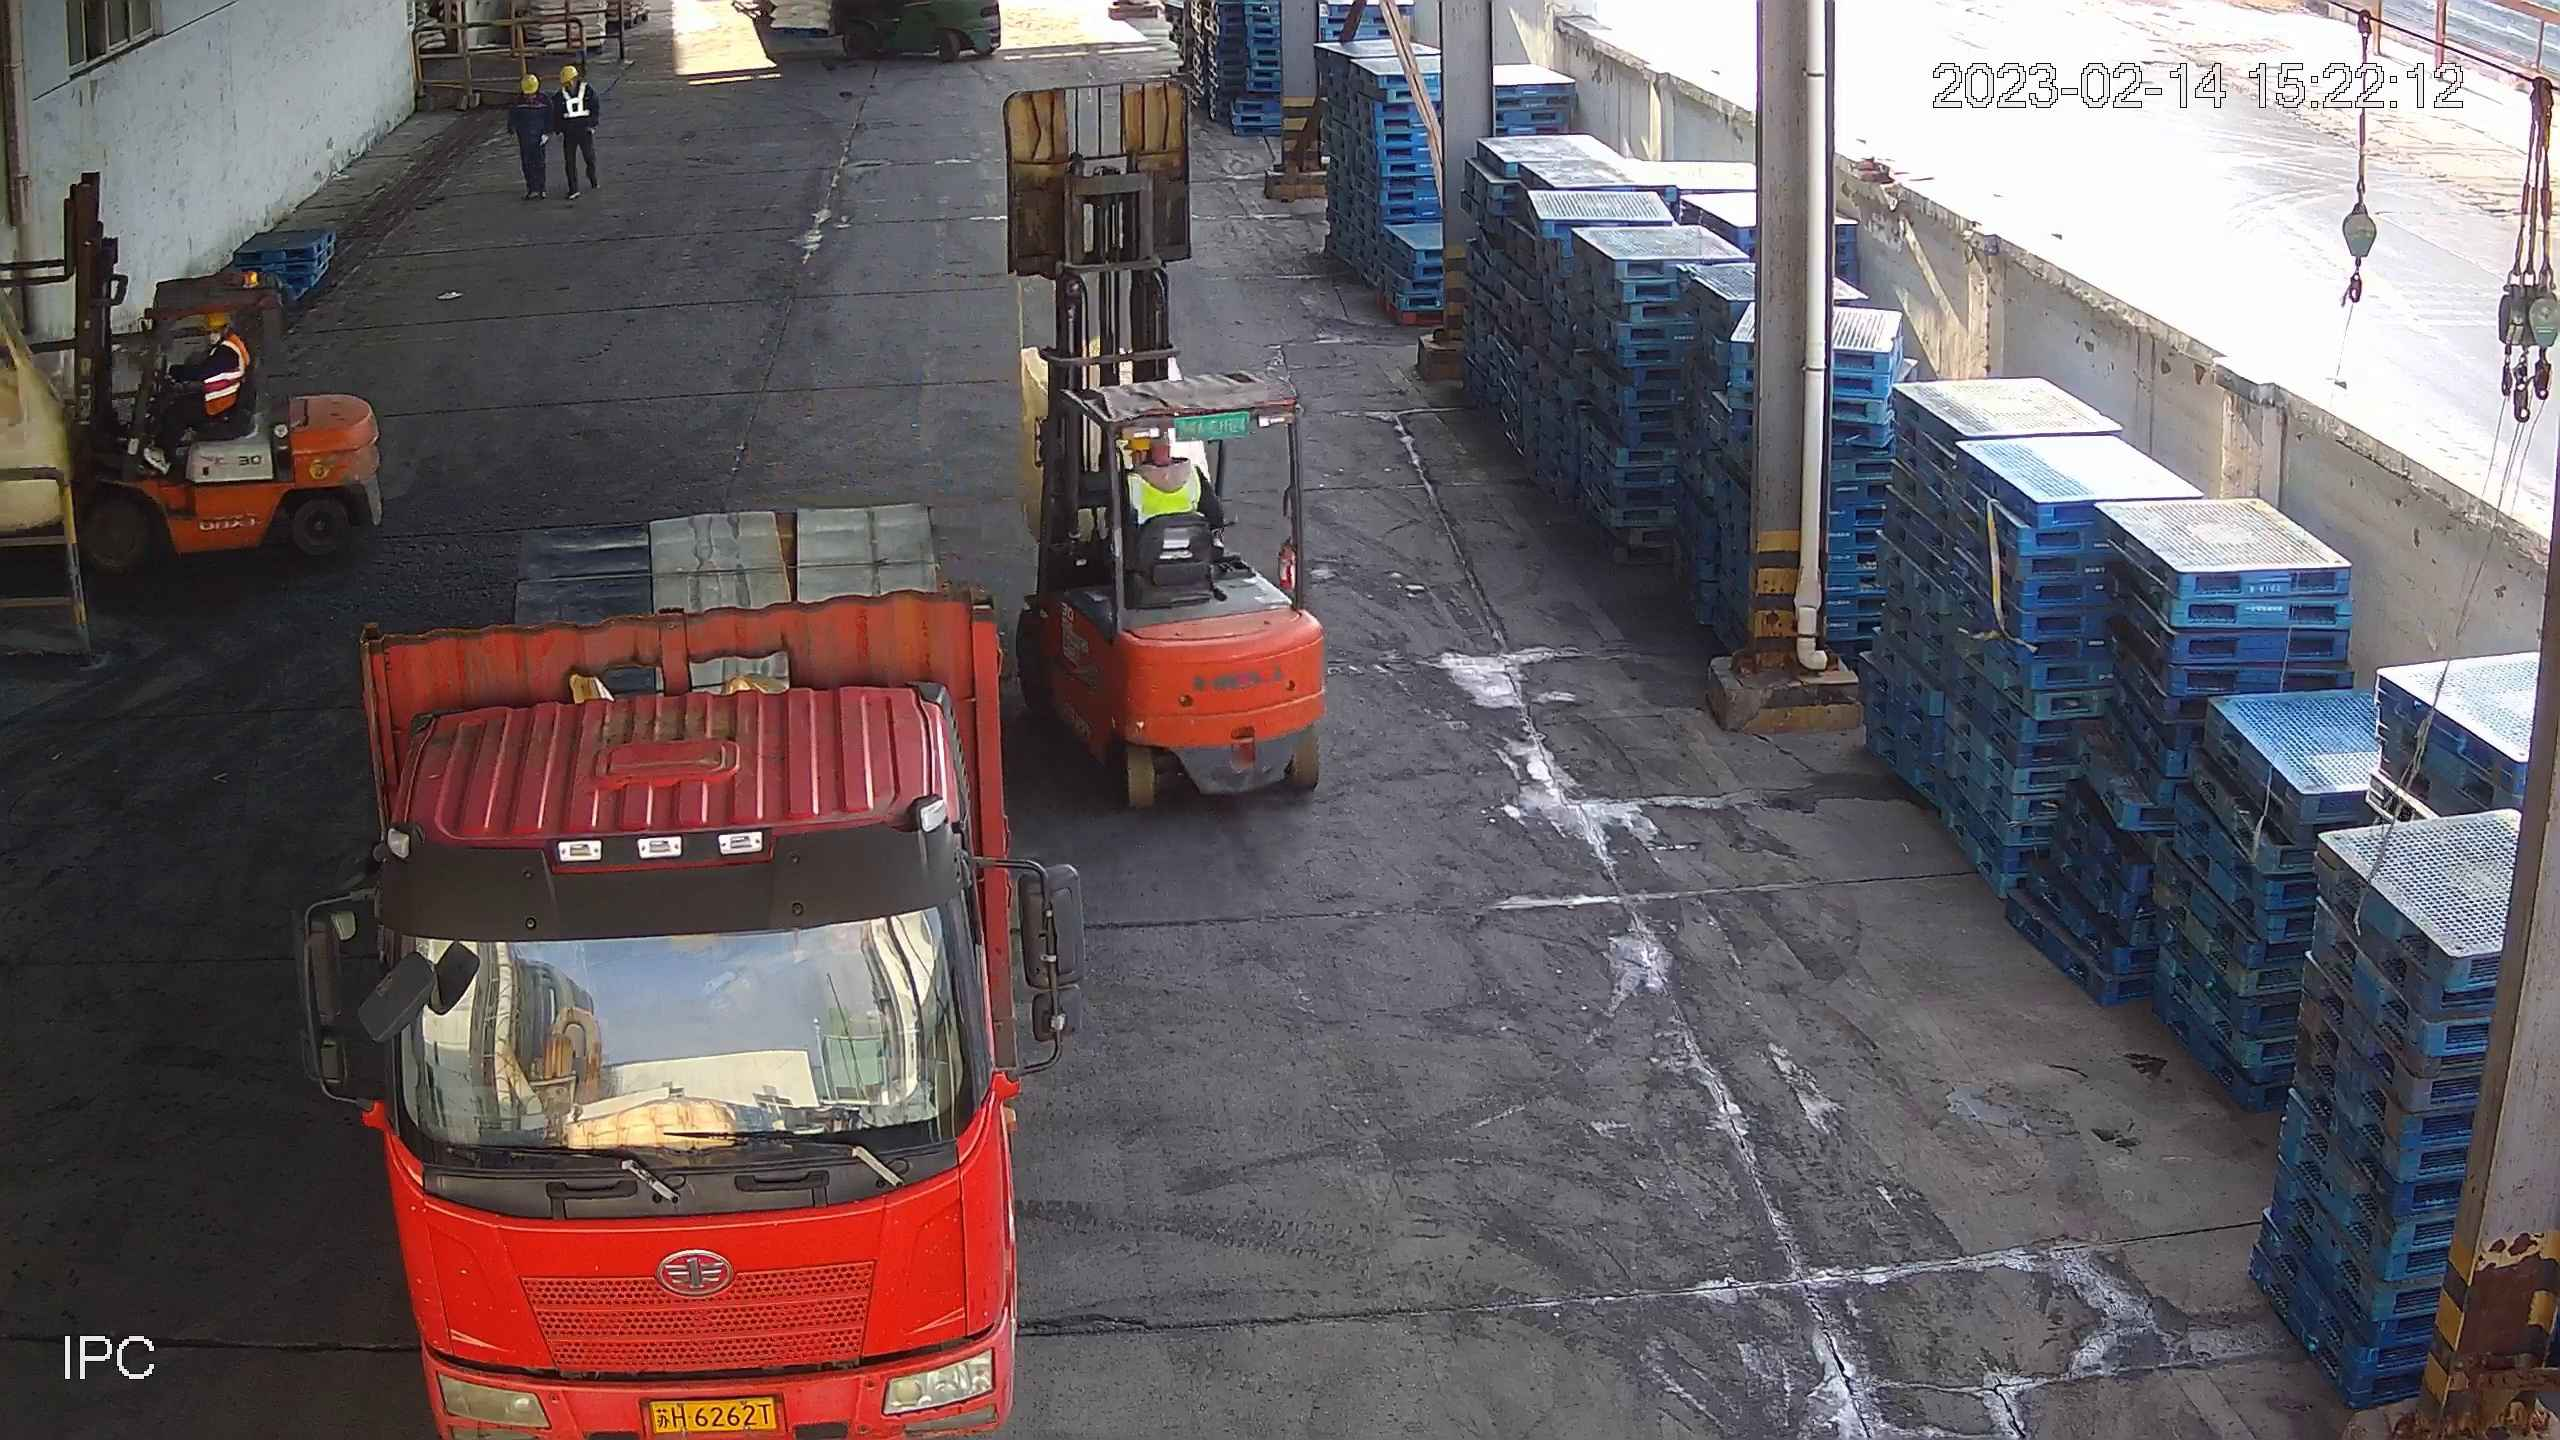head: (1114, 433, 1236, 523), (169, 313, 249, 398), (504, 73, 553, 127), (554, 65, 598, 121)
helmet: (201, 312, 236, 331), (521, 73, 539, 94), (560, 65, 578, 82)
people: (144, 313, 250, 478), (553, 65, 604, 203), (505, 73, 553, 200)
truck: (293, 490, 1086, 1440)
